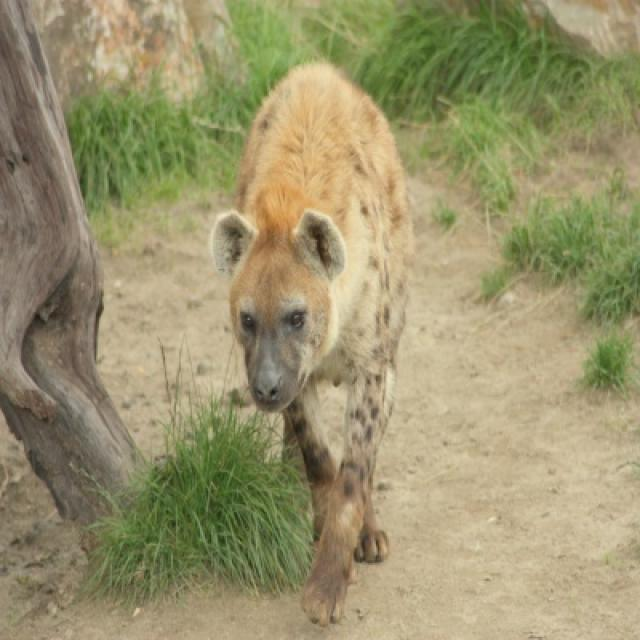hyena: (210, 62, 414, 627)
